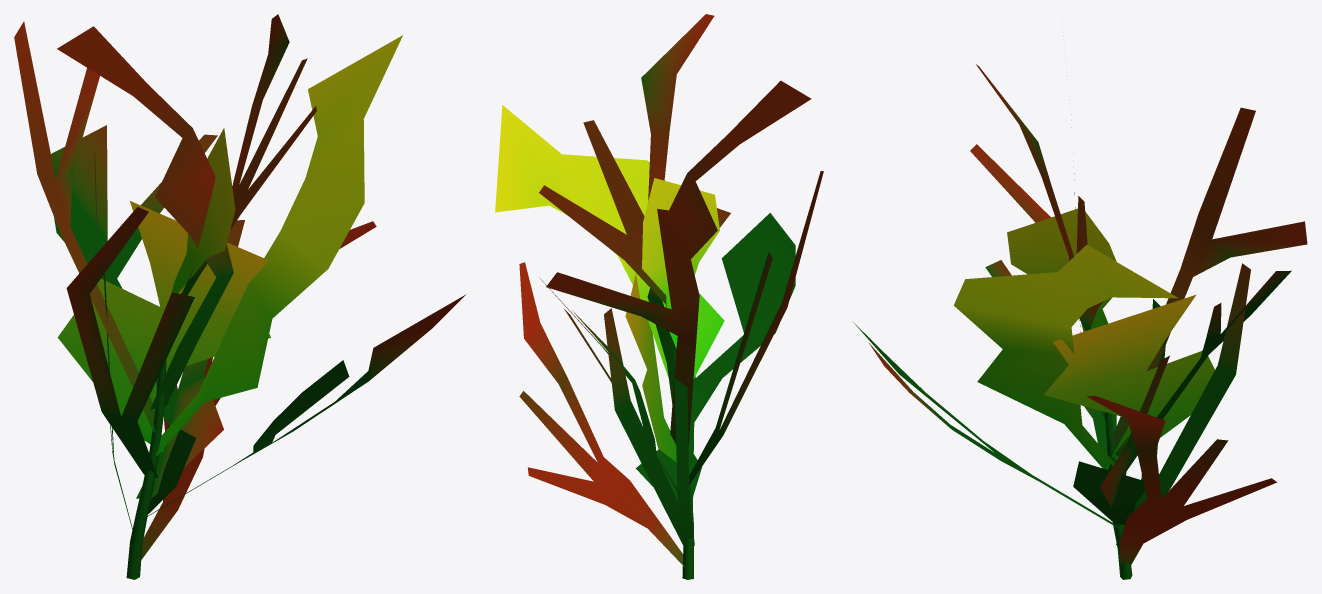
File: Acacia_LOD0_Var8_semkO.fbx
3 renders of one model, left to right at view 1: azimuth 30°, elevation 25°; view 2: azimuth 150°, elevation 25°; view 3: azimuth 270°, elevation 25°, orthographic. The views are drawn at different scales.
Parts seen in each view (by area): view 1: _0524_Var8_LOD0; view 2: _0524_Var8_LOD0; view 3: _0524_Var8_LOD0.
Boxes of the visible parts, box(x1,y1,x2,y2) form: _0524_Var8_LOD0: box(14, 14, 465, 579); _0524_Var8_LOD0: box(495, 14, 823, 579); _0524_Var8_LOD0: box(853, 64, 1307, 579).
Size of the model in its own units: 32.89 by 53.01 by 40.62.
